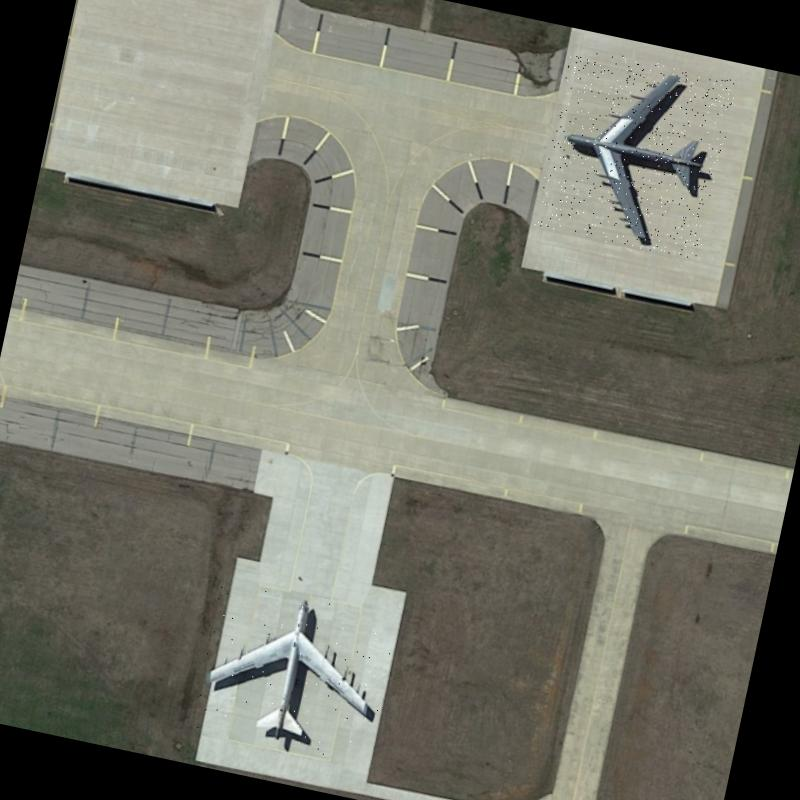A8: (534, 45, 738, 262), (190, 571, 401, 766)
